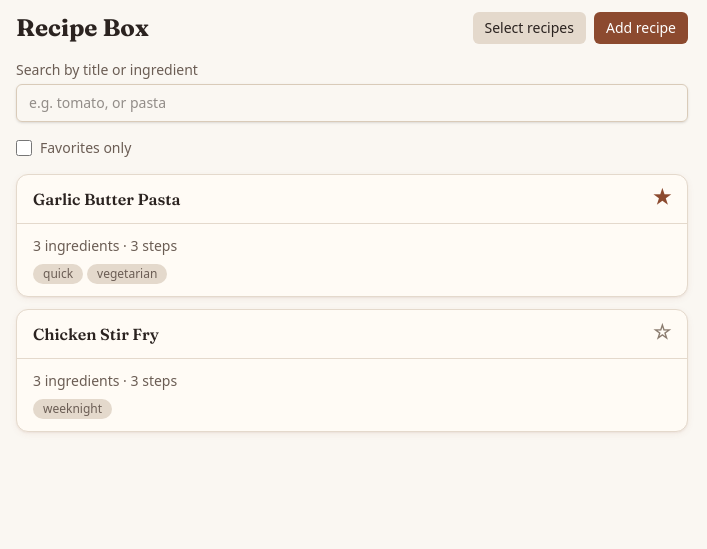
Test: RecipeBox selection mode (TEST-153) › cancelling selection mode clears the selection
Check: the text "Garlic Butter Pasta" is shown, box [33, 187, 180, 211]
Click the button "Select recipes" at (529, 28), box [472, 12, 586, 44]
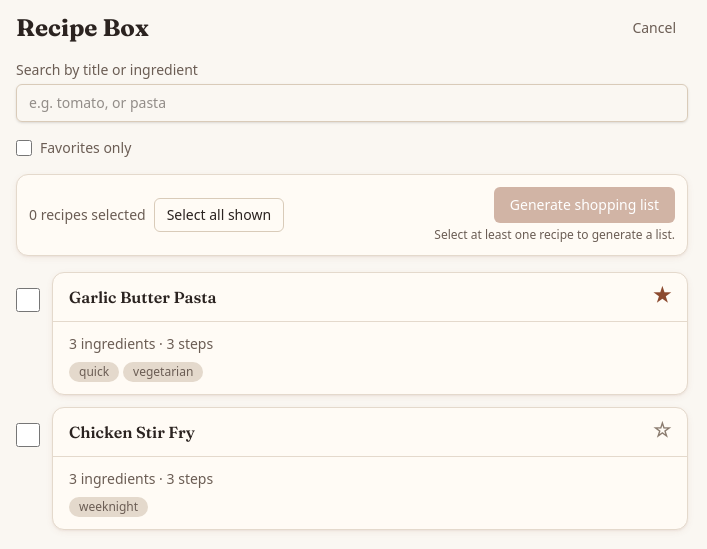
Click the checkbox named "Garlic Butter Pasta" at (28, 300), box [16, 288, 40, 312]
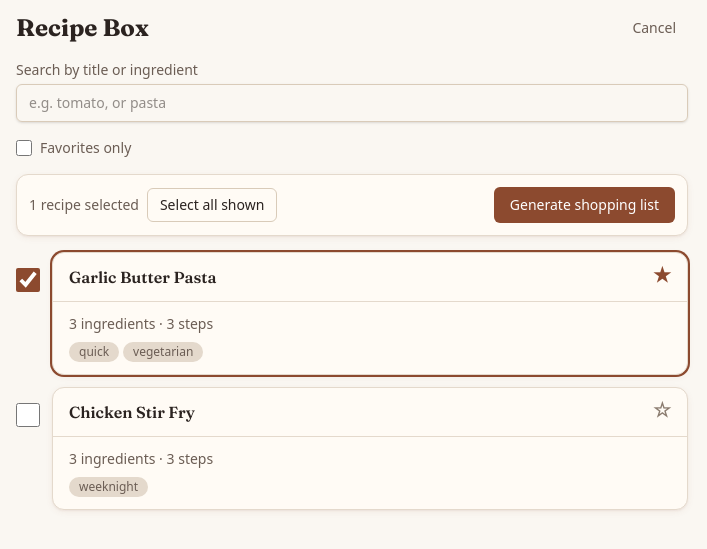
Click the button "Cancel" at (654, 28), box [620, 12, 688, 44]
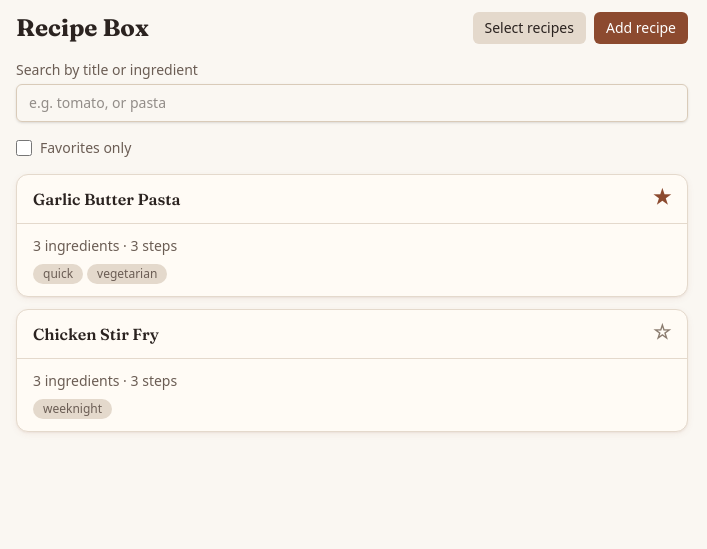
Check: the text "recipes selected" is not shown
Click the button "Select recipes" at (529, 28), box [472, 12, 586, 44]
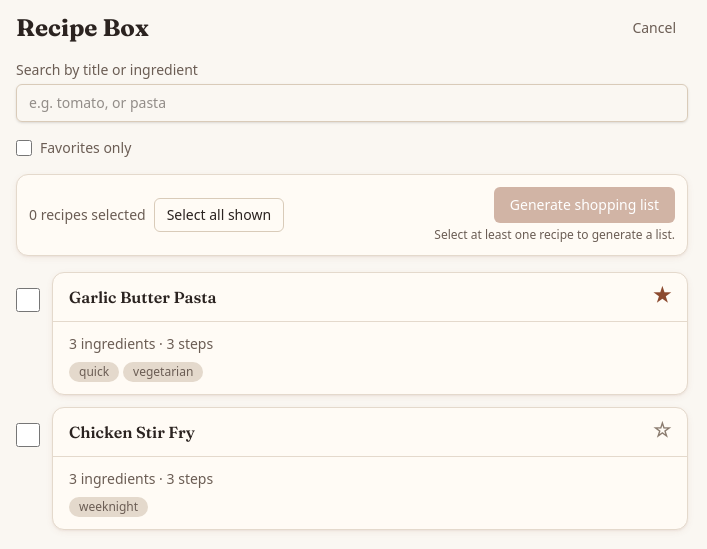
Check: the text "0 recipes selected" is shown, box [29, 205, 146, 225]
